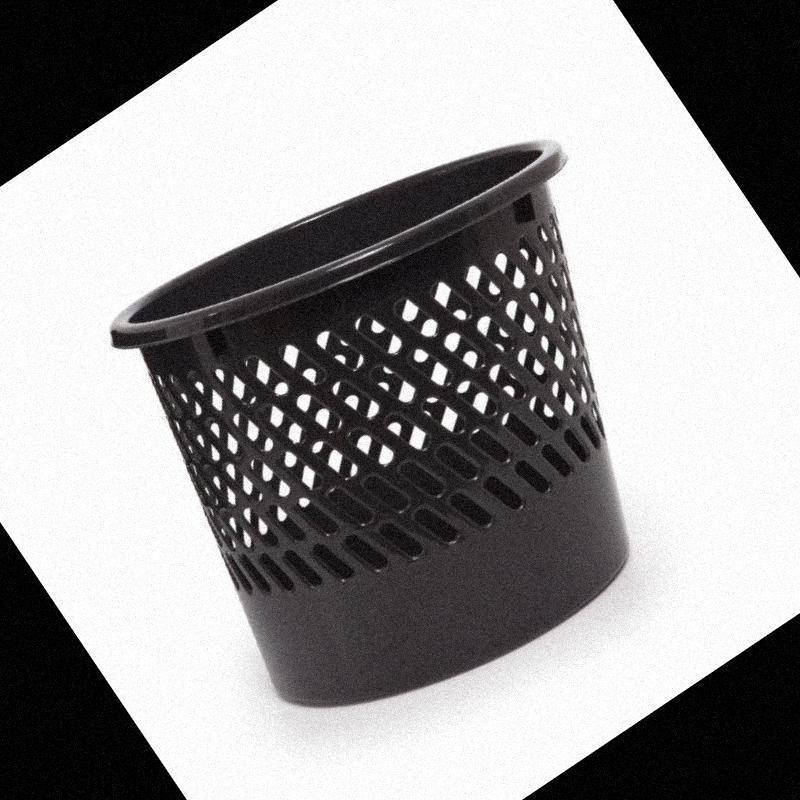Bote de Basura: (46, 54, 781, 777)
